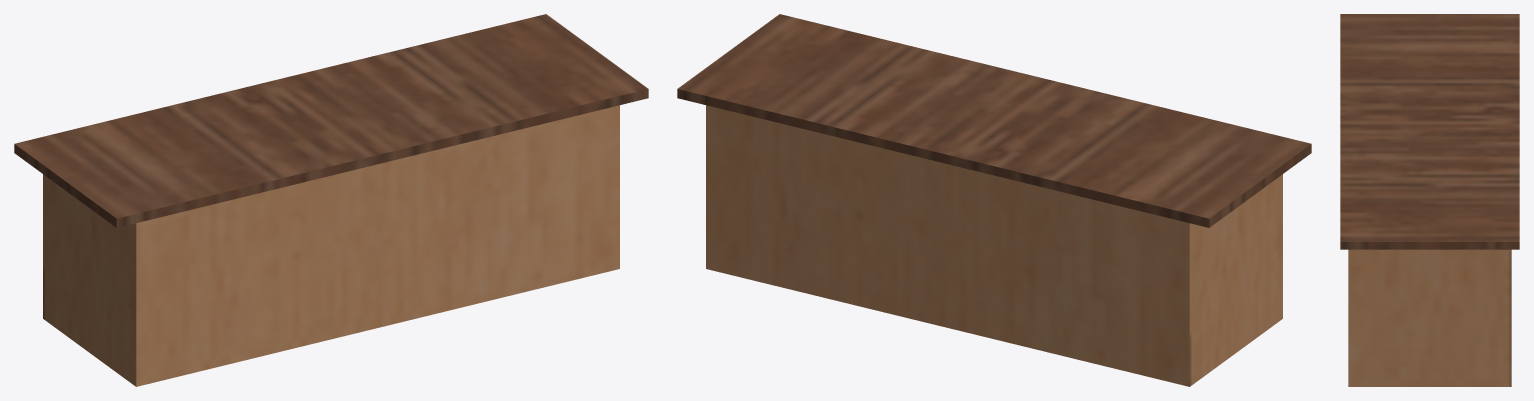
The model's file is Desk.fbx.
The picture shows the model from 3 angles, left to right: view 1: azimuth 30°, elevation 25°; view 2: azimuth 150°, elevation 25°; view 3: azimuth 270°, elevation 25°; orthographic projection. The views are drawn at different scales.
Parts seen in each view (by area): view 1: Cube; view 2: Cube; view 3: Cube.
Part boxes in pixels (left/top/right/bottom): Cube: left=14, top=14, right=648, bottom=386; Cube: left=677, top=14, right=1311, bottom=386; Cube: left=1340, top=14, right=1519, bottom=386.
Bounding box in the file's own units: 264 × 84.2 × 88.
1 material, 1 textured.
